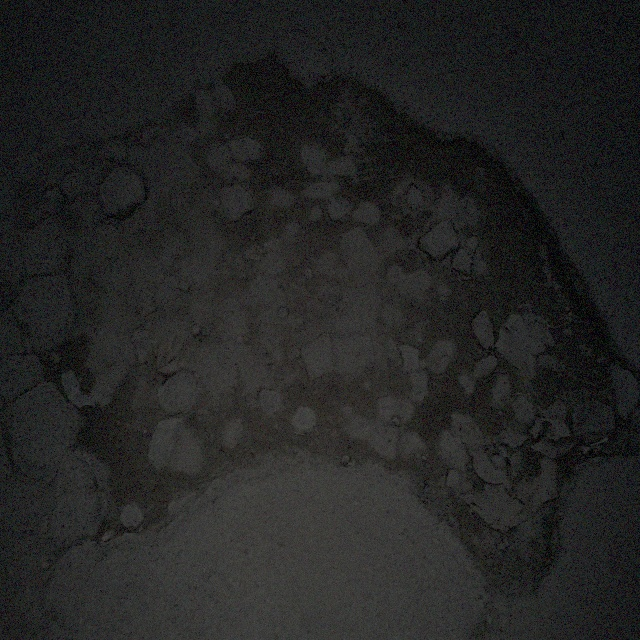pothole: (11, 47, 627, 612)
